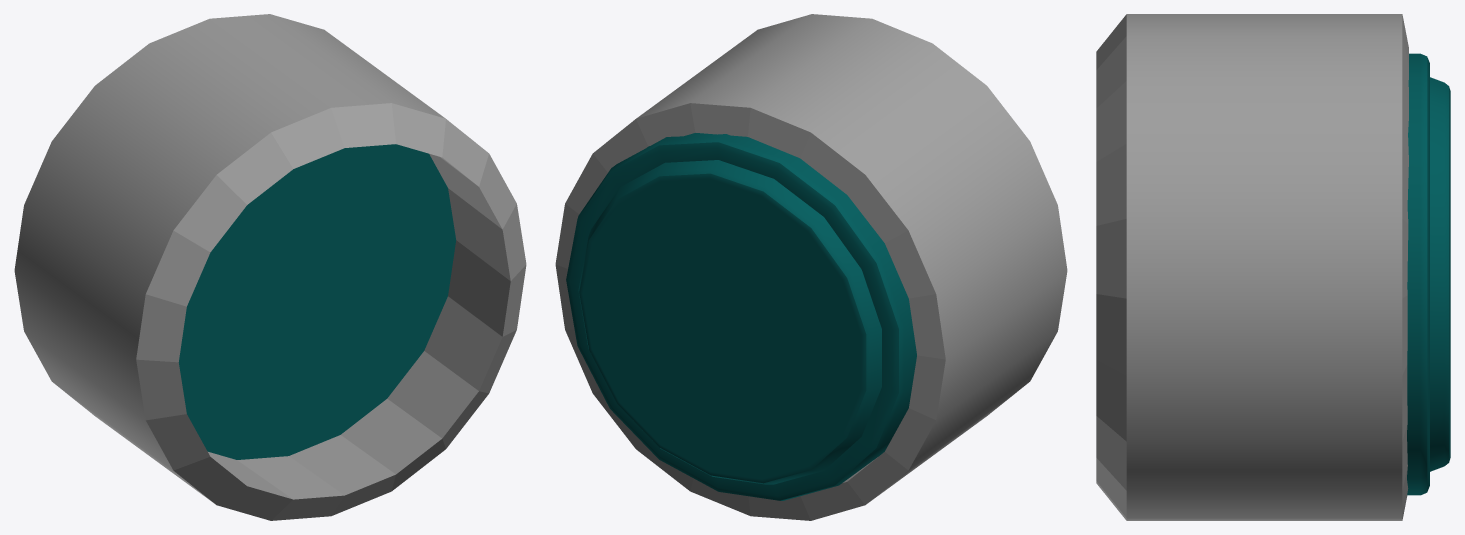
File: circle press button.fbx
3 renders of one model, left to right at view 1: azimuth 30°, elevation 25°; view 2: azimuth 150°, elevation 25°; view 3: azimuth 270°, elevation 25°, orthographic. The views are drawn at different scales.
Visible parts, largest first — view 1: pCylinder112, polySurface18984; view 2: polySurface18984, pCylinder112; view 3: pCylinder112, polySurface18984.
Boxes of the visible parts, x1,y1,x2,y2 form: pCylinder112: (14, 14, 526, 520); polySurface18984: (178, 144, 456, 459); polySurface18984: (566, 133, 916, 500); pCylinder112: (555, 14, 1067, 520); pCylinder112: (1096, 14, 1408, 520); polySurface18984: (1407, 53, 1450, 495).
Size of the model in its own units: 0.1889 by 0.1889 by 0.1311.
